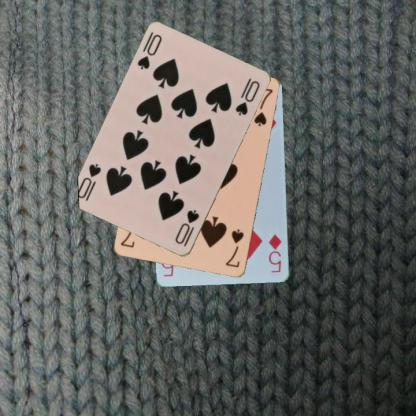10s: (134, 32, 164, 72), (172, 207, 201, 248)
5d: (266, 232, 283, 274)
7s: (223, 226, 246, 270)
